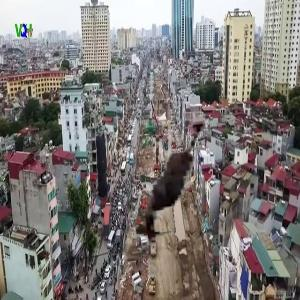drone: (80, 87, 266, 273)
